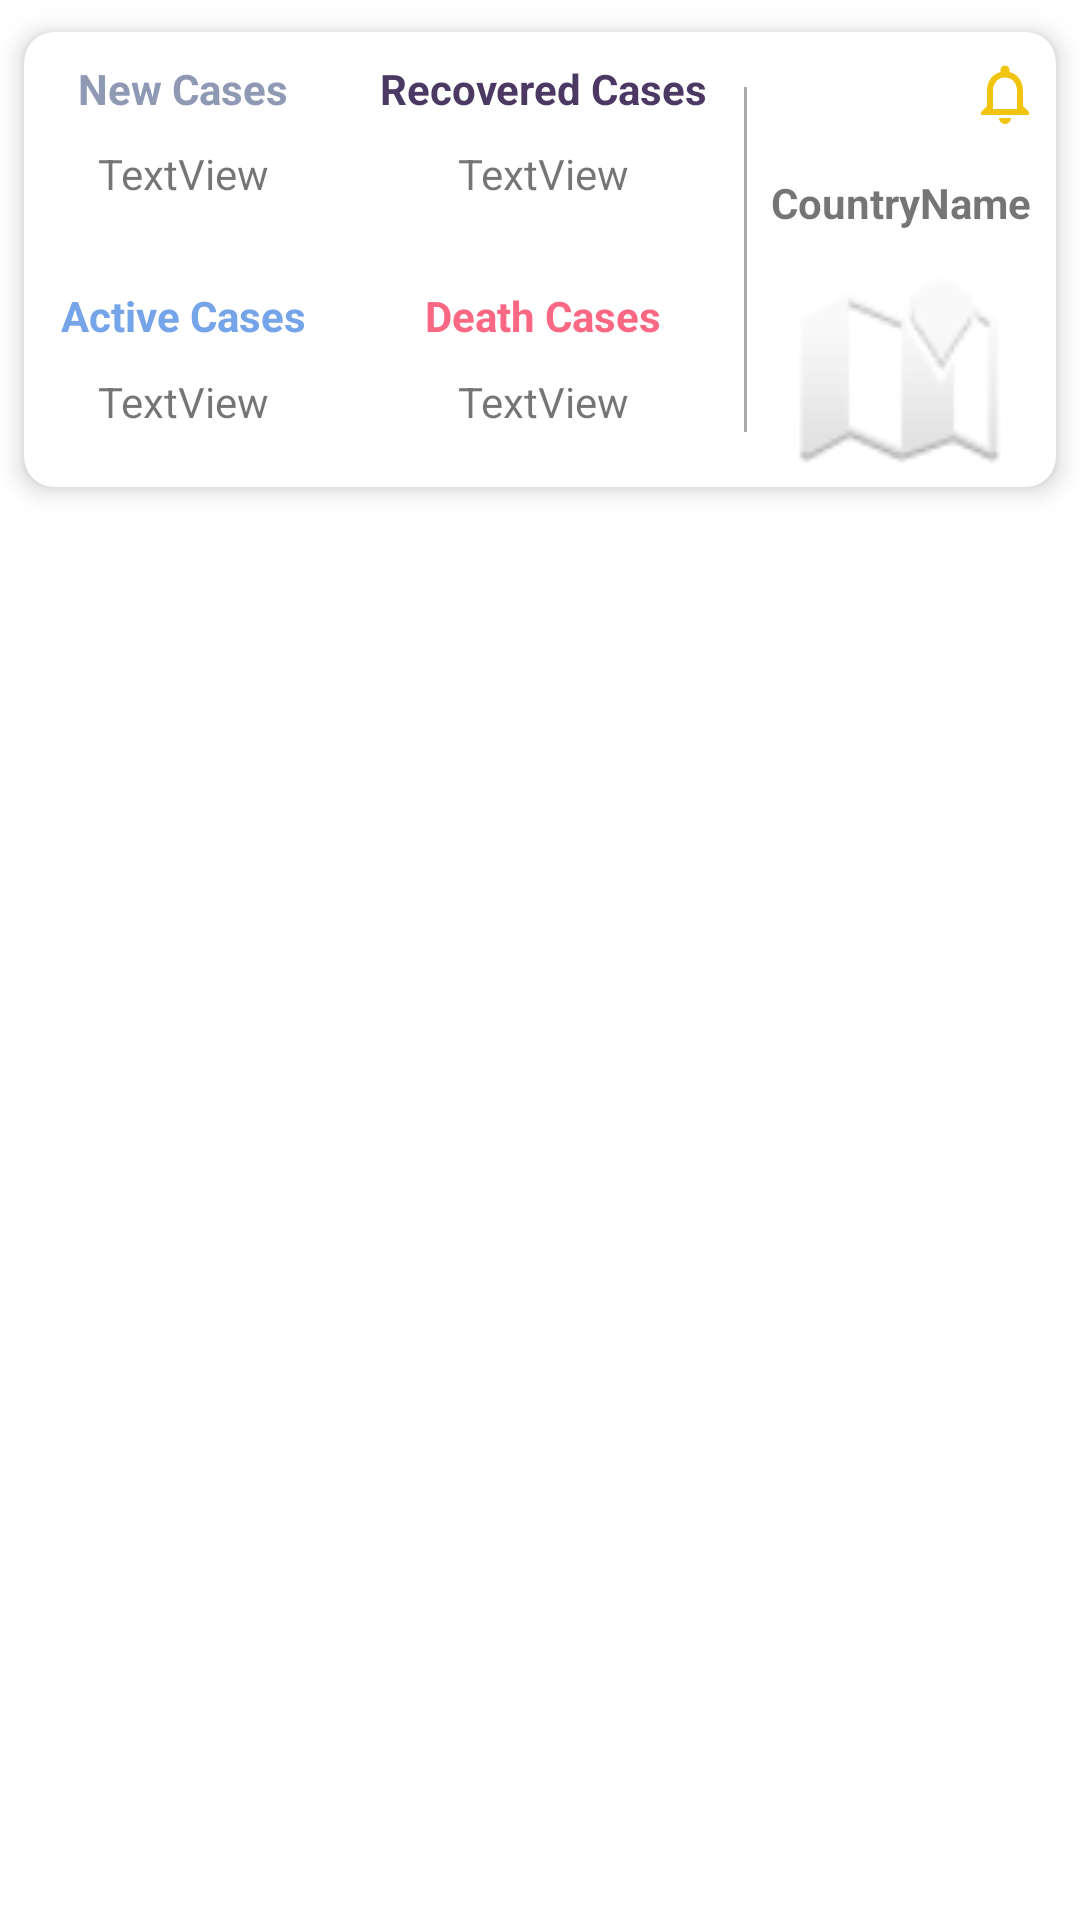

Icon click points for this 1080x1920 phone screenshot, format [x,y]:
map: [899,381]
notifications: [1005,94]
